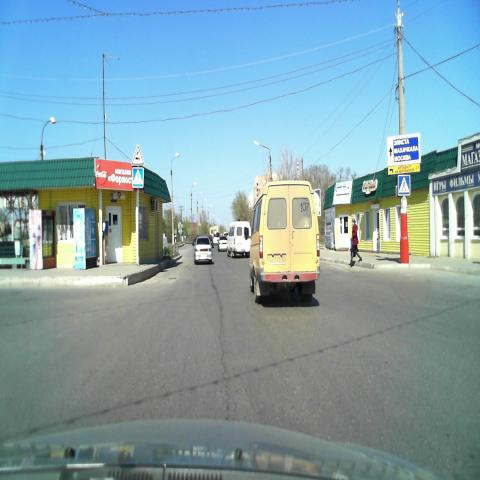1_2: (132, 146, 144, 166)
